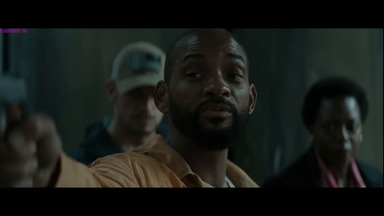firearm: (1, 72, 34, 129)
